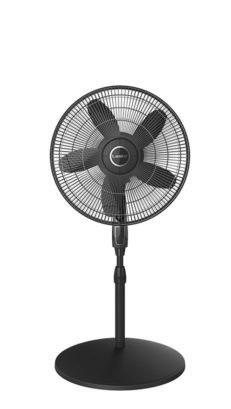fan: (32, 74, 213, 404)
